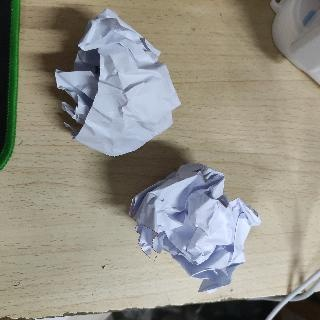8/可回收垃圾/纸: (52, 7, 181, 157), (128, 162, 262, 292)
